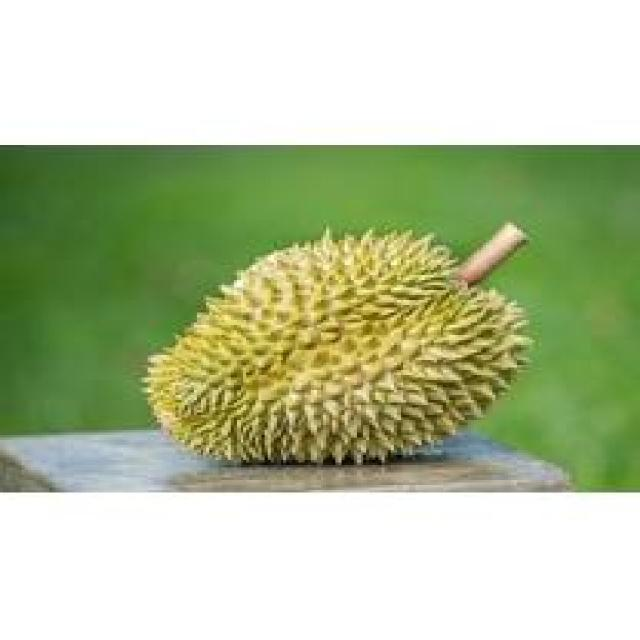fruit: (141, 202, 554, 482)
